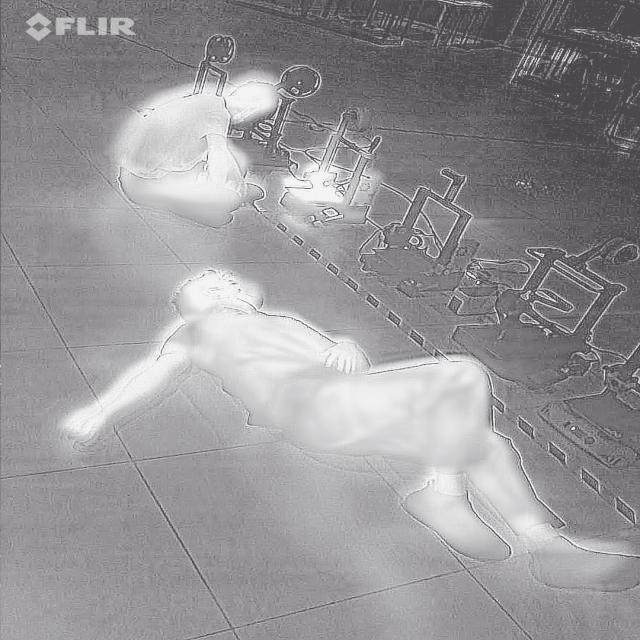Victim: (52, 262, 640, 598), (111, 70, 298, 236)
